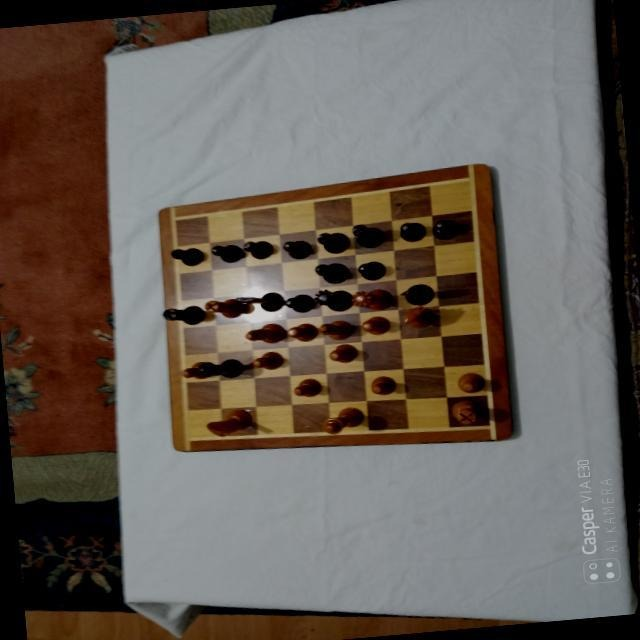black-bishop: (314, 259, 350, 284), (316, 230, 351, 254)
black-king: (196, 356, 243, 380)
black-knight: (235, 290, 285, 314), (398, 282, 434, 306)
black-pawn: (169, 244, 204, 267), (242, 236, 274, 259), (281, 238, 311, 260), (397, 220, 427, 242), (430, 217, 460, 239), (357, 259, 387, 281), (210, 241, 241, 262), (282, 292, 313, 312)
black-queen: (312, 285, 354, 312)
black-rook: (160, 303, 204, 327), (350, 220, 384, 248)
white-bishop: (243, 321, 285, 343), (316, 318, 352, 341)
white-king: (319, 405, 365, 435)
white-knight: (204, 406, 253, 437), (401, 303, 435, 328)
white-pawn: (252, 349, 284, 371), (359, 313, 391, 335), (292, 376, 322, 398), (455, 371, 485, 393), (327, 341, 358, 362), (286, 322, 318, 342), (181, 360, 211, 380), (369, 373, 396, 395)
white-queen: (349, 287, 395, 313)
white-rook: (203, 296, 244, 319), (450, 398, 481, 424)
